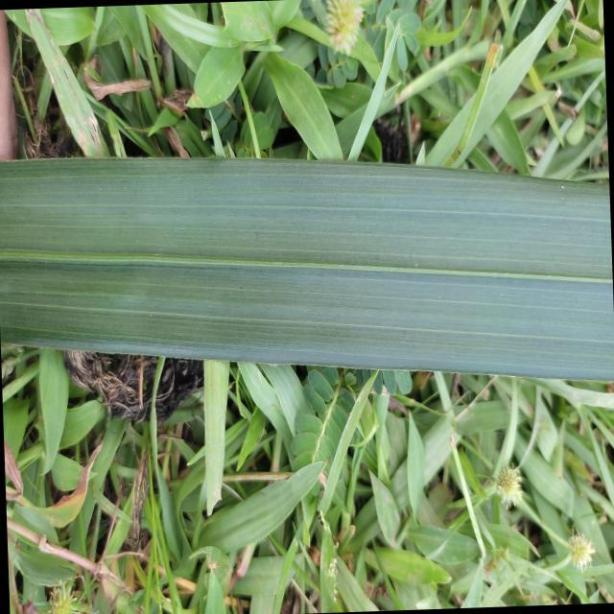Healthy: (3, 158, 614, 387)
